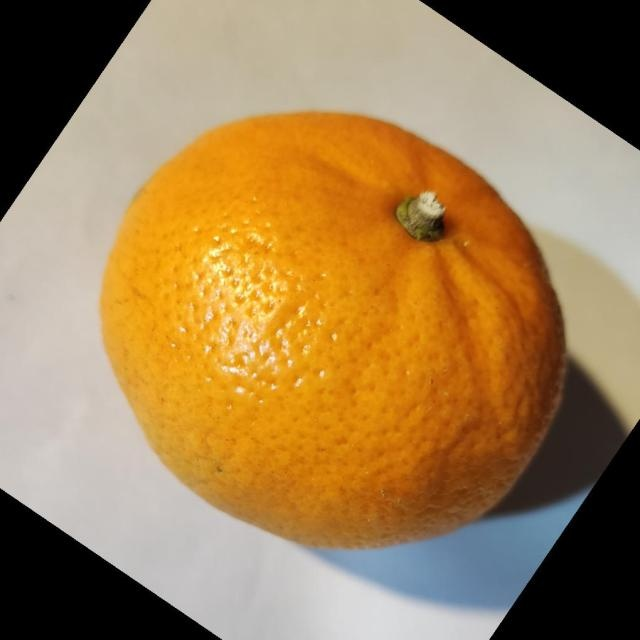agrume: (98, 108, 568, 551)
